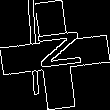N_W: (28, 32, 82, 78)
